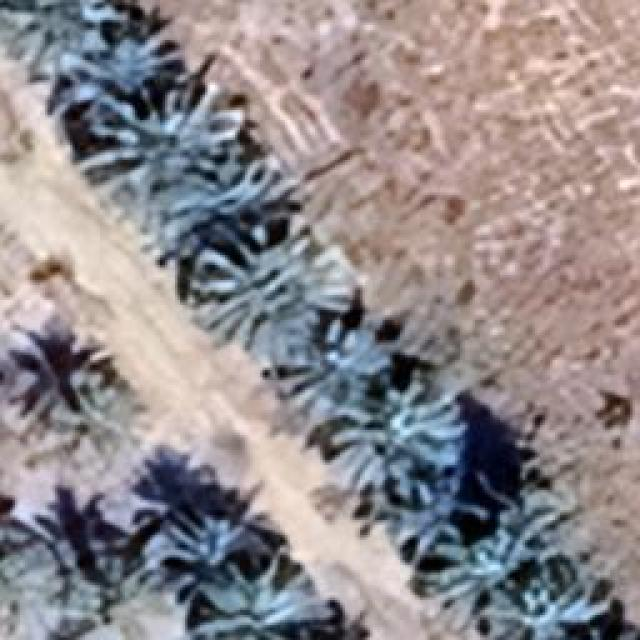PalmTree: (69, 54, 142, 386), (72, 82, 238, 210), (187, 220, 355, 340), (354, 376, 452, 496), (22, 524, 156, 608), (425, 512, 550, 598), (282, 320, 388, 415), (200, 568, 335, 638), (482, 572, 610, 638), (0, 0, 112, 65), (166, 502, 249, 576), (0, 544, 62, 640)
